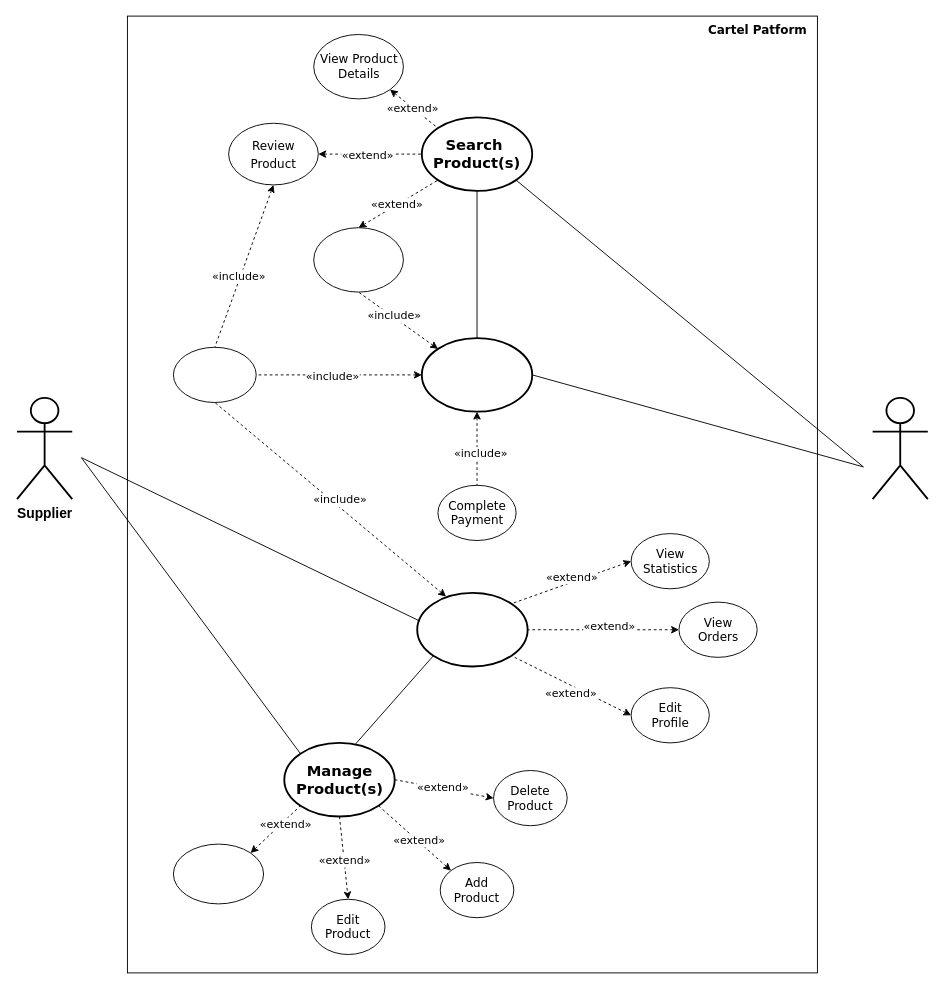
Image size: 948x989. Some labels were removed from this diagram. Here are the shapes that lost their labels. From the top down, the centre of each, then its label:
At [358,259]: "Add Product to Cart".
At [214,374]: "Login / Register".
At [476,374]: "Order Product(s)".
At [899,448]: "Customer".
At [472,629]: "Manage Profile".
At [218,873]: "View Product Reviews".
